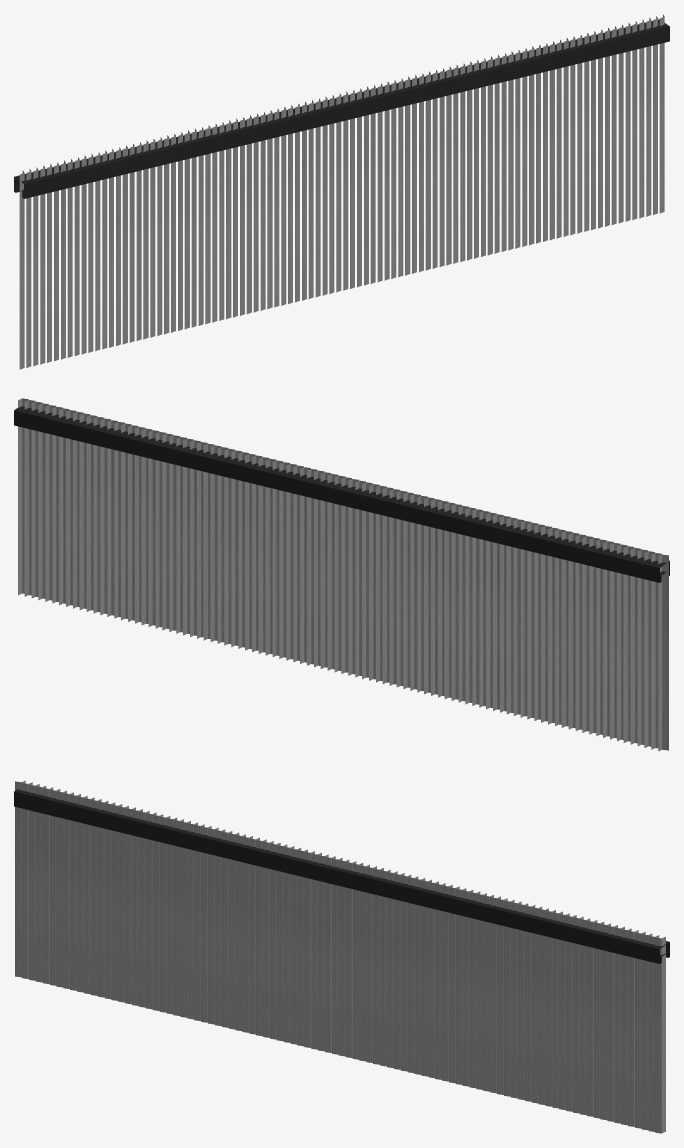
The model's file is Conference_Blinds.fbx.
The picture shows the model from 3 angles, top to bottom: view 1: azimuth 30°, elevation 25°; view 2: azimuth 150°, elevation 25°; view 3: azimuth 330°, elevation 25°; orthographic projection.
Parts seen in each view (by area): view 1: CF_Blinds; view 2: CF_Blinds; view 3: CF_Blinds.
Part boxes in pixels (x1,y1,x2,y2): CF_Blinds: [14, 14, 669, 369]; CF_Blinds: [14, 398, 669, 751]; CF_Blinds: [14, 780, 669, 1133].
Size of the model in its own units: 7.18 by 2.07 by 0.1928.
